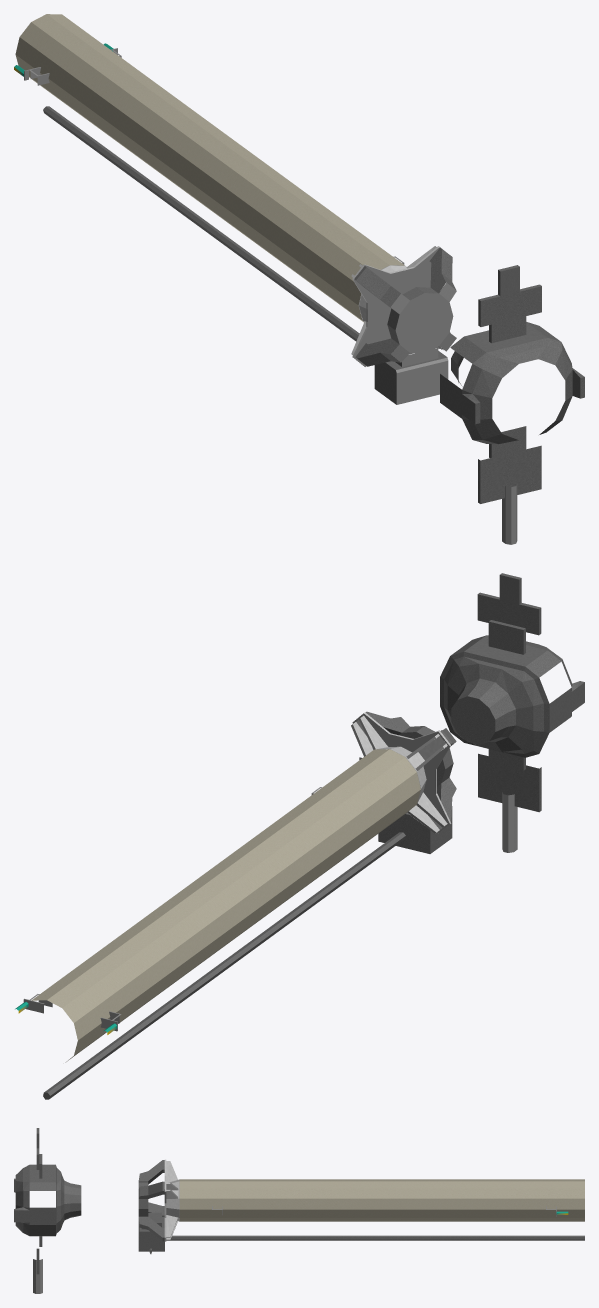
The model's file is ct-11m00000002854920-geode.glb.
The picture shows the model from 3 angles, top to bottom: view 1: azimuth 30°, elevation 25°; view 2: azimuth 150°, elevation 25°; view 3: azimuth 270°, elevation 25°; orthographic projection. The views are drawn at different scales.
Parts seen in each view (by area): view 1: Node; view 2: Node; view 3: Node.
Boxes of the visible parts, bbox=[...] form: Node: bbox=[14, 14, 584, 544]; Node: bbox=[15, 573, 584, 1099]; Node: bbox=[14, 1128, 584, 1293].
Bounding box in the file's own units: 0.6224 × 1.48 × 4.75.
5 materials, 5 textured.
